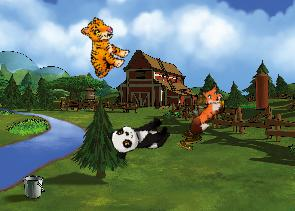fox: (173, 78, 235, 138)
panda: (106, 112, 173, 161)
tiger: (66, 13, 136, 83)
